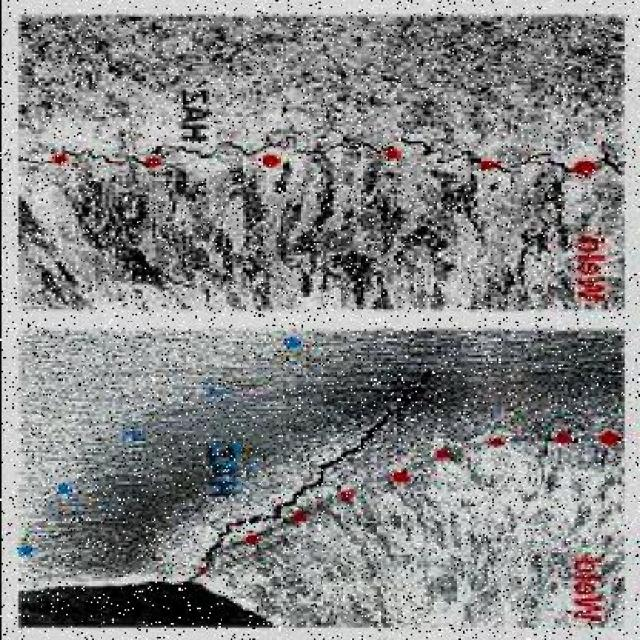Crack: (188, 382, 432, 606), (24, 139, 627, 190)
